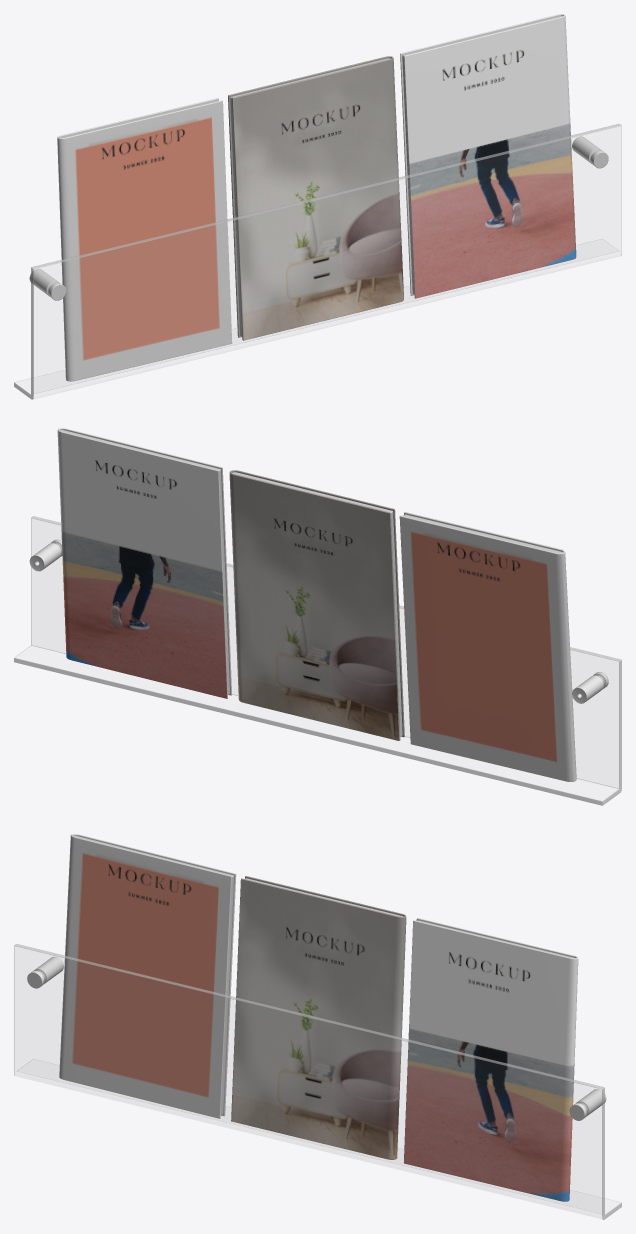
The picture shows the model from 3 angles, top to bottom: view 1: azimuth 30°, elevation 25°; view 2: azimuth 150°, elevation 25°; view 3: azimuth 330°, elevation 25°; orthographic projection.
Visible parts, largest first — view 1: wallart6028; view 2: wallart6028; view 3: wallart6028.
Boxes of the visible parts, x1,y1,x2,y2 form: wallart6028: [14, 14, 621, 399]; wallart6028: [14, 428, 621, 805]; wallart6028: [14, 834, 621, 1219].
Size of the model in its own units: 0.7 by 0.2743 by 0.0449.
4 materials, 1 textured.
